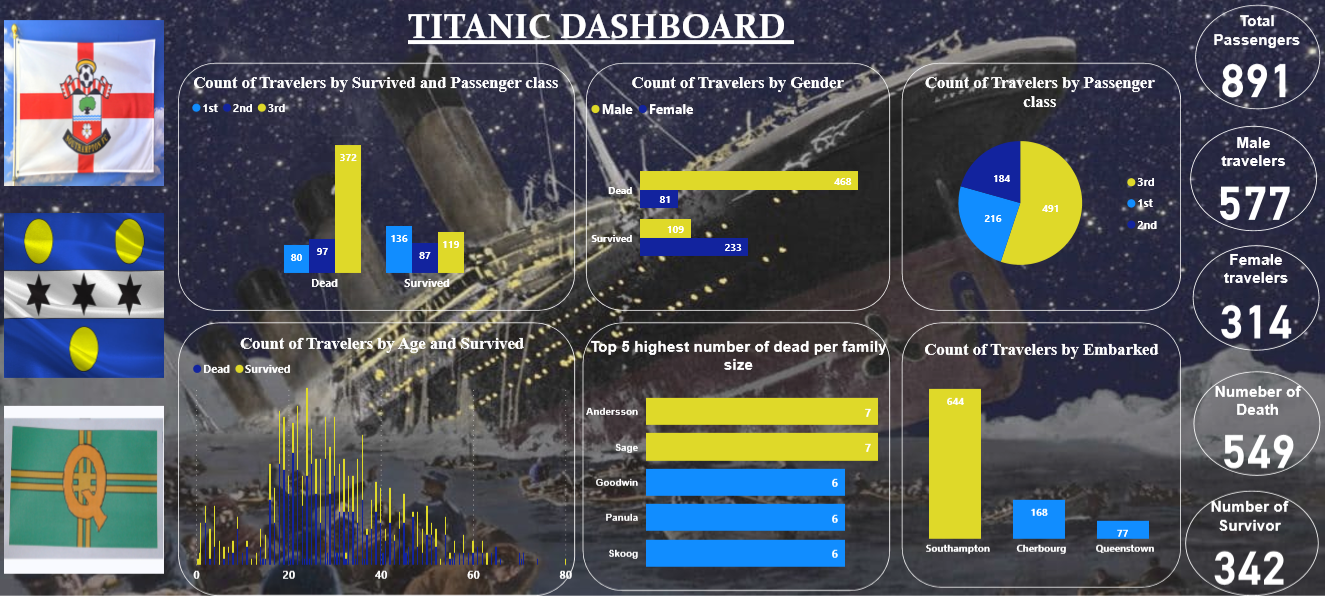

The dashboard page shown, as its layout file describes it:
{"tool":"powerbi","page":{"name":"Dashboard","canvas":[1600,720],"ordinal":0},"visuals":[{"type":"shape","box":[1442,6.9,151,125.8],"z":0,"group":"g1"},{"type":"shape","box":[707.3,77.3,367.4,298.6],"z":0,"group":"g6"},{"type":"shape","box":[1435.9,153,152.7,127.5],"z":0,"group":"g5"},{"type":"image","box":[0,252.6,202.8,209.7],"z":0},{"type":"shape","box":[1439.1,297.3,152.6,127.4],"z":0,"group":"g4"},{"type":"shape","box":[1439.9,448.5,152.7,125.8],"z":0,"group":"g2"},{"type":"shape","box":[1429.9,592.9,161,127.5],"z":0,"group":"g3"},{"type":"card","title":"Male travelers ","fields":{"Values":["CountNonNull(Passengers.Gender)"]},"box":[1447.6,163.1,129.2,110.7],"z":19,"group":"g5"},{"type":"card","title":"Female travelers ","fields":{"Values":["CountNonNull(Passengers.Gender)"]},"box":[1450.8,304,129.2,115.8],"z":19,"group":"g4"},{"type":"card","title":"Total Passengers","fields":{"Values":["CountNonNull(Passengers.PassengerId)"]},"box":[1451.5,15.8,130.9,109],"z":1000,"group":"g1"},{"type":"card","title":"Numeber of Death","fields":{"Values":["CountNonNull(Passengers.Survived)"]},"box":[1441.6,462.2,151.2,110],"z":1000,"group":"g2"},{"type":"image","box":[0,486.4,202.8,211.4],"z":1000},{"type":"card","title":"Number of Survivor","fields":{"Values":["CountNonNull(Passengers.Survived)"]},"box":[1429.9,601.5,154.7,113.4],"z":1000,"group":"g3"},{"type":"image","box":[0,20,202.9,211.4],"z":2000},{"type":"group","id":"g1","title":"Group 1","box":[1442,6.9,151.2,125.5],"z":3000},{"type":"group","id":"g2","title":"Group 2","box":[1439.9,448.5,153,125.8],"z":4000},{"type":"clusteredColumnChart","title":"Count of Travelers by Embarked","fields":{"Category":["Passengers.Embarked"],"Y":["CountNonNull(Passengers.PassengerId)"]},"box":[1075.8,410.7,360.9,269.8],"z":5000},{"type":"group","id":"g3","title":"Group 3","box":[1429.9,592.9,161,127.5],"z":6000},{"type":"shape","box":[703,390.1,370.7,323.8],"z":7000},{"type":"group","id":"g4","title":"Group 4","box":[1439.1,297.3,152.6,127.4],"z":8000},{"type":"clusteredBarChart","title":"Count of Travelers by Gender","fields":{"Category":["Passengers.Survived"],"Series":["Passengers.Gender"],"Y":["CountNonNull(Passengers.PassengerId)"]},"box":[707.3,89,365.7,280.2],"z":9000,"group":"g6"},{"type":"group","id":"g5","title":"Group 5","box":[1435.9,153,152.7,127.5],"z":9000},{"type":"shape","box":[214.8,390.1,479.5,330],"z":10000,"group":"g8"},{"type":"group","id":"g6","title":"Group 6","box":[707.3,77.3,367.4,298.6],"z":11000},{"type":"textbox","box":[395.2,1.5,661.1,69.8],"z":12000},{"type":"shape","box":[214.8,77.3,479.5,299],"z":12000,"group":"g7"},{"type":"group","id":"g7","title":"Group 8","box":[214.8,77.3,479.5,299],"z":13000},{"type":"clusteredColumnChart","title":"Count of Travelers by Survived and Passenger class","fields":{"Category":["Passengers.Survived"],"Series":["Passengers.Pclass"],"Y":["CountNonNull(Passengers.PassengerId)"]},"box":[226.2,89.1,455,272.2],"z":13000,"group":"g7"},{"type":"columnChart","title":"Count of Travelers by Age and Survived","fields":{"Category":["Passengers.Age"],"Series":["Passengers.Survived"],"Y":["CountNonNull(Passengers.PassengerId)"]},"box":[226.5,404.3,468,308.7],"z":14000,"group":"g8"},{"type":"shape","box":[1087.9,390.1,336.8,319.7],"z":15000},{"type":"shape","box":[1087.9,77.3,336.8,299],"z":16000},{"type":"pieChart","title":"Count of Travelers by Passenger class ","fields":{"Category":["Passengers.Pclass"],"Y":["CountNonNull(Passengers.PassengerId)"]},"box":[1098.2,89.4,312.8,269.8],"z":17000},{"type":"clusteredBarChart","title":"Top 5 highest number of dead per family size","fields":{"Y":["CountNonNull(Passengers.family size)"],"Category":["Passengers.Last name"]},"box":[701.2,409,379.8,299],"z":18000},{"type":"group","id":"g8","title":"Group 7","box":[214.8,390.1,479.7,330],"z":18001}]}

Visuals, with their boxes in screenshot pixels (x1, y1, x2, y2), scaled from the page's 1600x720 canvas onto the 1325x597 screenshot:
shape: [left=1194, top=6, right=1319, bottom=110]
shape: [left=586, top=64, right=890, bottom=312]
shape: [left=1189, top=127, right=1316, bottom=233]
image: [left=0, top=209, right=168, bottom=383]
shape: [left=1192, top=247, right=1318, bottom=352]
shape: [left=1192, top=372, right=1319, bottom=476]
shape: [left=1184, top=492, right=1317, bottom=596]
"Male travelers " card: [left=1199, top=135, right=1306, bottom=227]
"Female travelers " card: [left=1201, top=252, right=1308, bottom=348]
"Total Passengers" card: [left=1202, top=13, right=1310, bottom=103]
"Numeber of Death" card: [left=1194, top=383, right=1319, bottom=474]
image: [left=0, top=403, right=168, bottom=579]
"Number of Survivor" card: [left=1184, top=499, right=1312, bottom=593]
image: [left=0, top=17, right=168, bottom=192]
"Group 1" group: [left=1194, top=6, right=1319, bottom=110]
"Group 2" group: [left=1192, top=372, right=1319, bottom=476]
"Count of Travelers by Embarked" clusteredColumnChart: [left=891, top=341, right=1190, bottom=564]
"Group 3" group: [left=1184, top=492, right=1317, bottom=596]
shape: [left=582, top=323, right=889, bottom=592]
"Group 4" group: [left=1192, top=247, right=1318, bottom=352]
"Count of Travelers by Gender" clusteredBarChart: [left=586, top=74, right=889, bottom=306]
"Group 5" group: [left=1189, top=127, right=1316, bottom=233]
shape: [left=178, top=323, right=575, bottom=596]
"Group 6" group: [left=586, top=64, right=890, bottom=312]
textbox: [left=327, top=1, right=875, bottom=59]
shape: [left=178, top=64, right=575, bottom=312]
"Group 8" group: [left=178, top=64, right=575, bottom=312]
"Count of Travelers by Survived and Passenger class" clusteredColumnChart: [left=187, top=74, right=564, bottom=300]
"Count of Travelers by Age and Survived" columnChart: [left=188, top=335, right=575, bottom=591]
shape: [left=901, top=323, right=1180, bottom=589]
shape: [left=901, top=64, right=1180, bottom=312]
"Count of Travelers by Passenger class " pieChart: [left=909, top=74, right=1168, bottom=298]
"Top 5 highest number of dead per family size" clusteredBarChart: [left=581, top=339, right=895, bottom=587]
"Group 7" group: [left=178, top=323, right=575, bottom=596]
